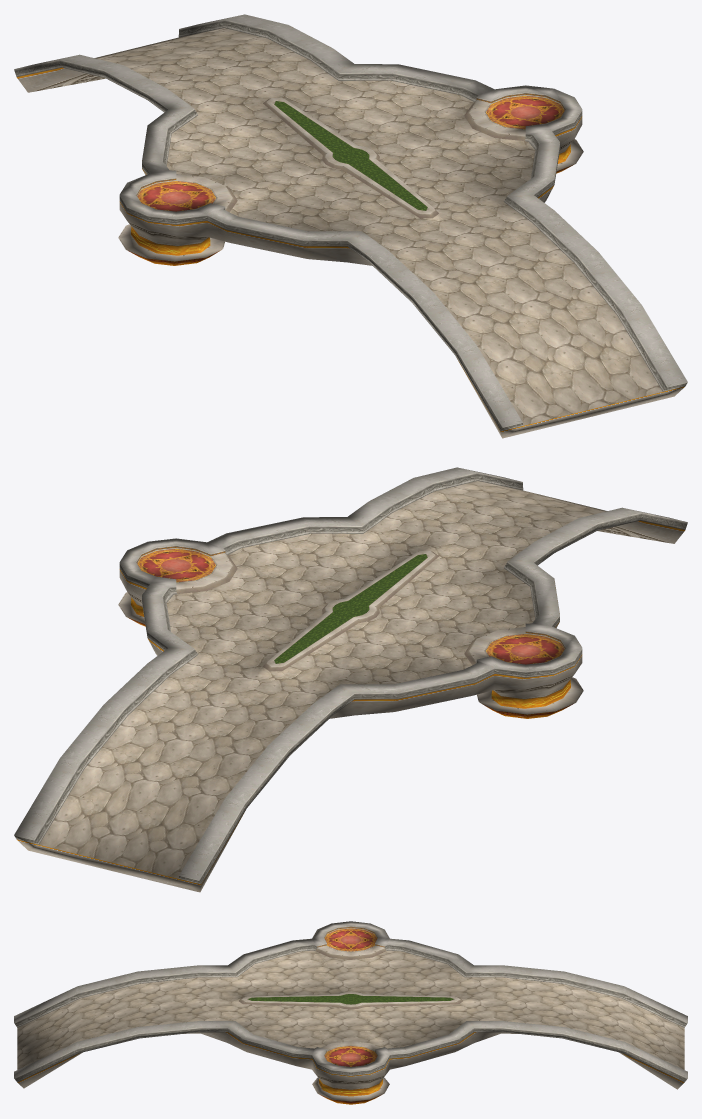
File: arcanebridge1.dae
The picture shows the model from 3 angles, top to bottom: view 1: azimuth 30°, elevation 25°; view 2: azimuth 150°, elevation 25°; view 3: azimuth 270°, elevation 25°; orthographic projection. The views are drawn at different scales.
Parts seen in each view (by area): view 1: Bridge1, Bridge2, Bridge3, Bridge0, Bridge8, Bridge5; view 2: Bridge1, Bridge2, Bridge3, Bridge0, Bridge8, Bridge5; view 3: Bridge1, Bridge2, Bridge3, Bridge0, Bridge8, Bridge5.
Part boxes in pixels (box(x1,y1,x2,y2)): Bridge1: box(94, 28, 662, 425); Bridge2: box(14, 14, 687, 431); Bridge3: box(16, 67, 684, 438); Bridge0: box(137, 95, 564, 211); Bridge8: box(274, 101, 427, 210); Bridge5: box(127, 139, 574, 245); Bridge1: box(39, 481, 607, 878); Bridge2: box(14, 467, 687, 884); Bridge3: box(17, 520, 685, 892); Bridge0: box(137, 548, 564, 664); Bridge8: box(274, 554, 427, 663); Bridge5: box(127, 592, 574, 698); Bridge1: box(17, 950, 684, 1069); Bridge2: box(14, 921, 687, 1082); Bridge3: box(17, 926, 684, 1101); Bridge0: box(324, 928, 377, 1066); Bridge8: box(248, 994, 453, 1004); Bridge5: box(313, 1071, 388, 1089).
Bounding box in the file's own units: 54.17 × 102 × 10.7.
